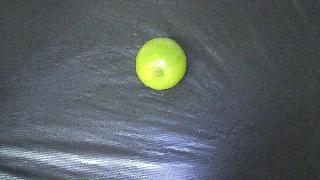LOCAL: (135, 37, 186, 90)
